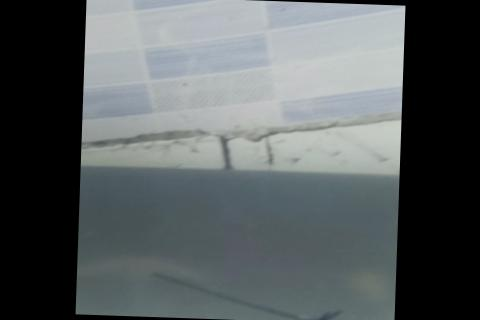keretakan: (148, 267, 396, 320)
